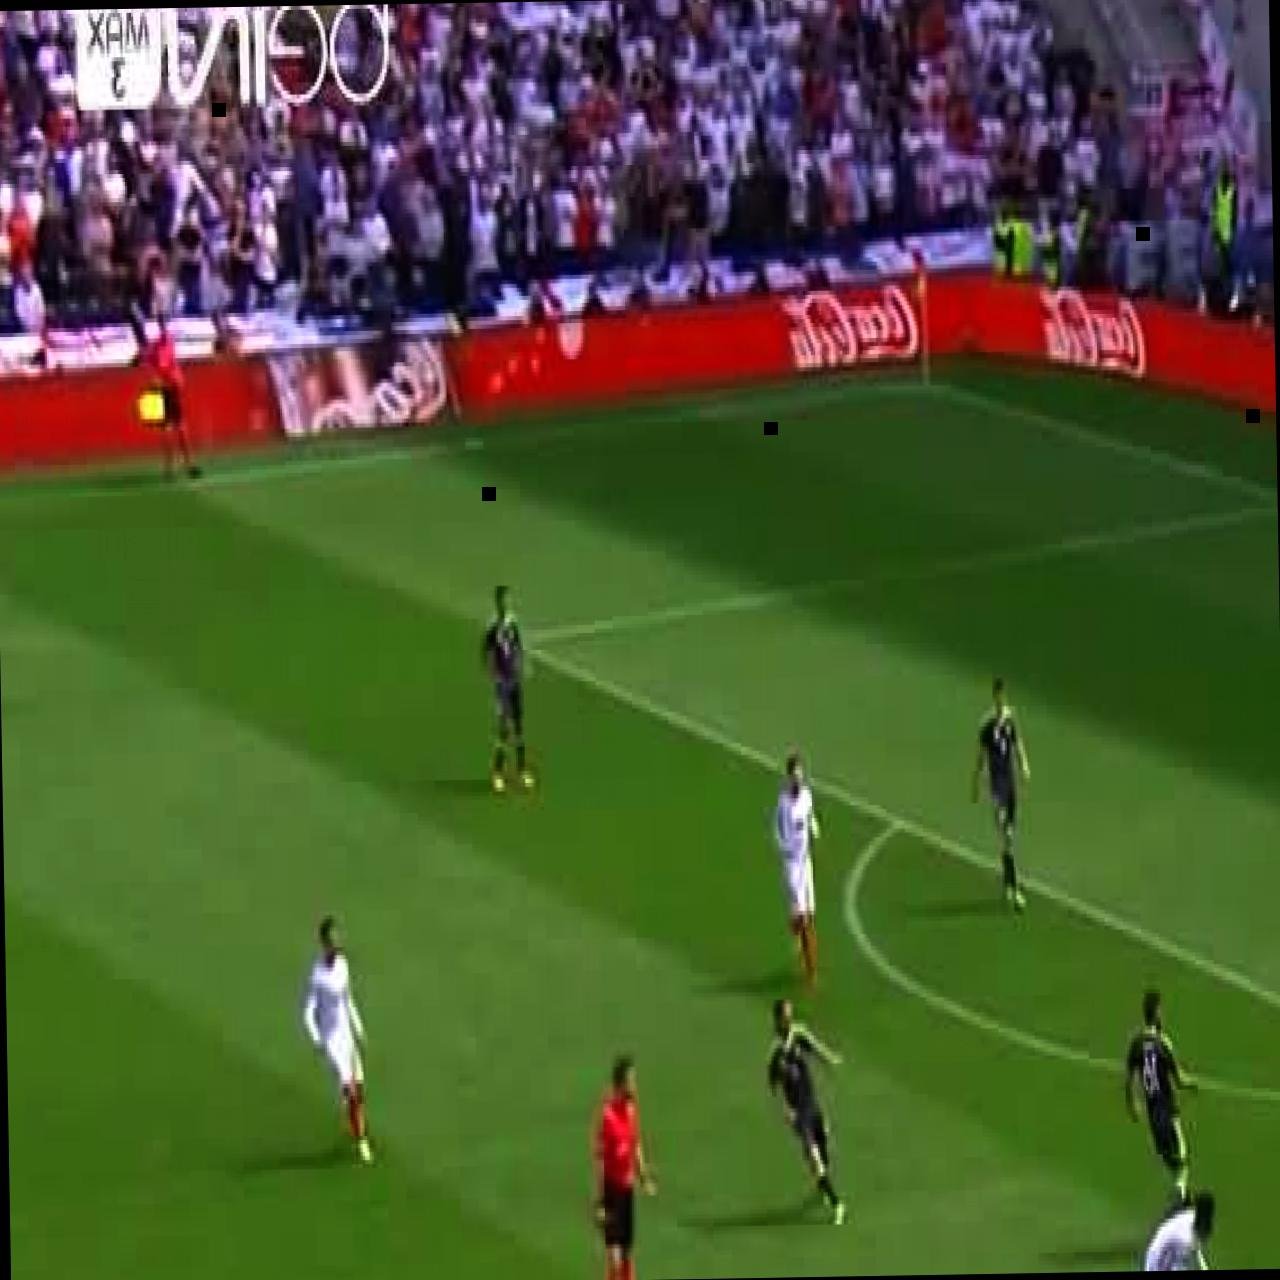football: (767, 1000, 848, 1230), (300, 918, 374, 1168), (1124, 992, 1202, 1206), (971, 676, 1036, 916), (596, 1058, 658, 1280), (482, 583, 538, 796), (773, 754, 821, 989), (1094, 1189, 1219, 1272), (154, 316, 200, 477)
